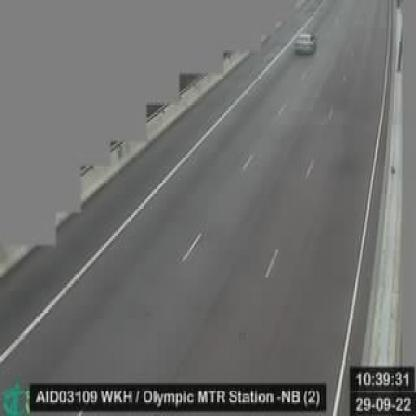Car: (286, 28, 320, 60)
